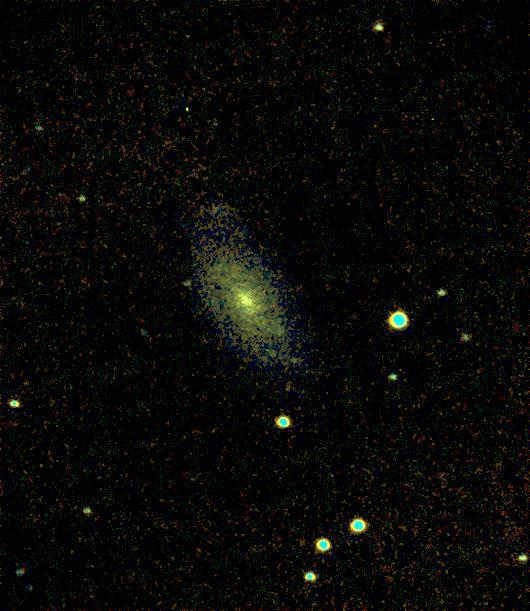star: (247, 291, 277, 321)
